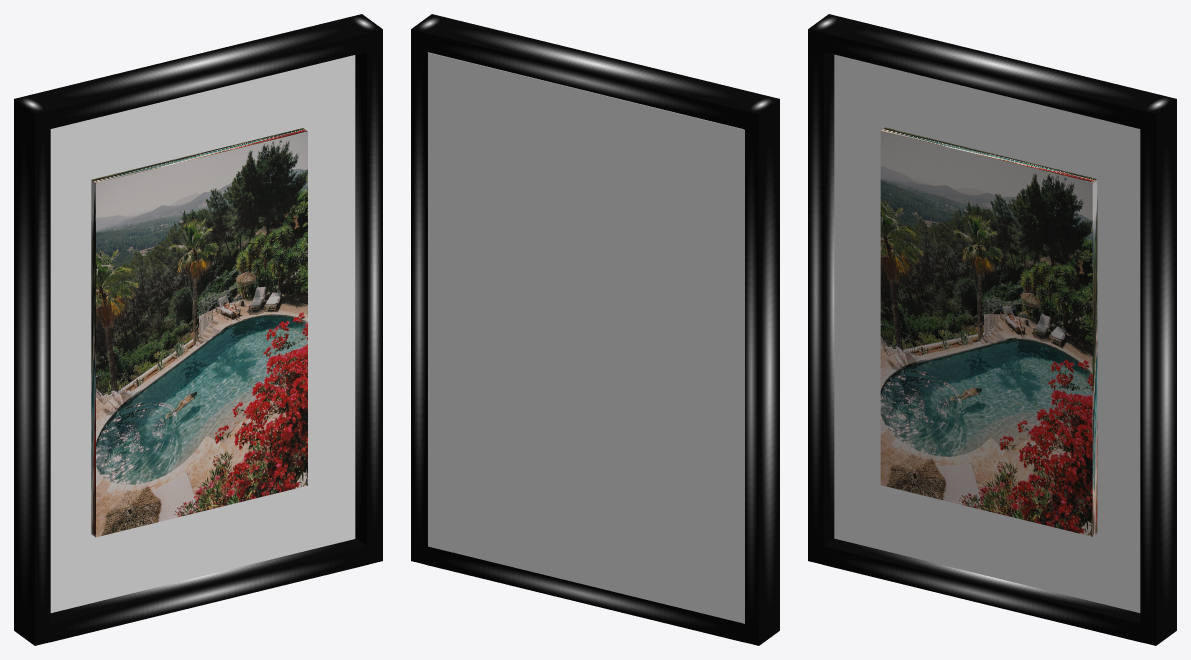
Rendered from frame-image3.glb.
3 views of the same model, side by side, from view 1: azimuth 30°, elevation 25°; view 2: azimuth 150°, elevation 25°; view 3: azimuth 330°, elevation 25° (orthographic).
Visible parts, largest first — view 1: image, Cube, Cube (4), Cube (1), Cube (3), Cube (2); view 2: Cube, Cube (4), Cube (3), Cube (1), Cube (2); view 3: image, Cube, Cube (1), Cube (4), Cube (3), Cube (2).
Boxes of the visible parts, x1,y1,x2,y2 form: image: (91,128,307,537); Cube: (50,55,355,612); Cube (4): (14,95,50,645); Cube (1): (347,14,382,564); Cube (3): (30,17,367,128); Cube (2): (50,538,366,641); Cube: (428,52,744,623); Cube (4): (744,95,779,645); Cube (3): (425,18,763,129); Cube (1): (411,14,447,564); Cube (2): (425,546,743,642); image: (880,127,1097,536); Cube: (834,54,1140,612); Cube (1): (1140,95,1176,645); Cube (4): (808,14,843,564); Cube (3): (824,18,1160,128); Cube (2): (824,538,1141,642).
Bounding box in the file's own units: 193 × 282 × 20.01.
3 materials, 2 textured.
